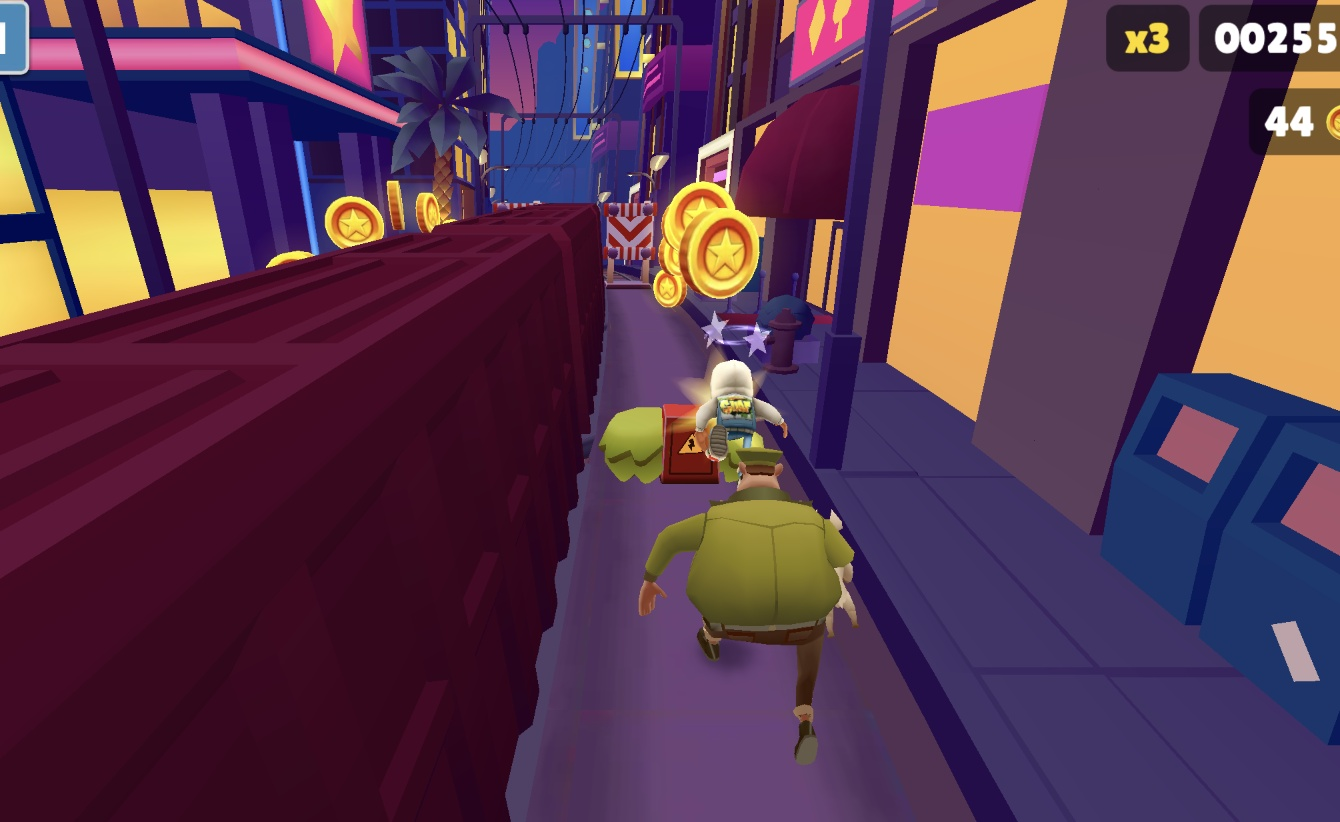bush: (599, 406, 663, 484), (714, 430, 761, 484)
overhead_barrier: (598, 202, 656, 281), (472, 200, 541, 216)
small_obstacle: (659, 401, 719, 484)
train: (0, 204, 600, 822)
